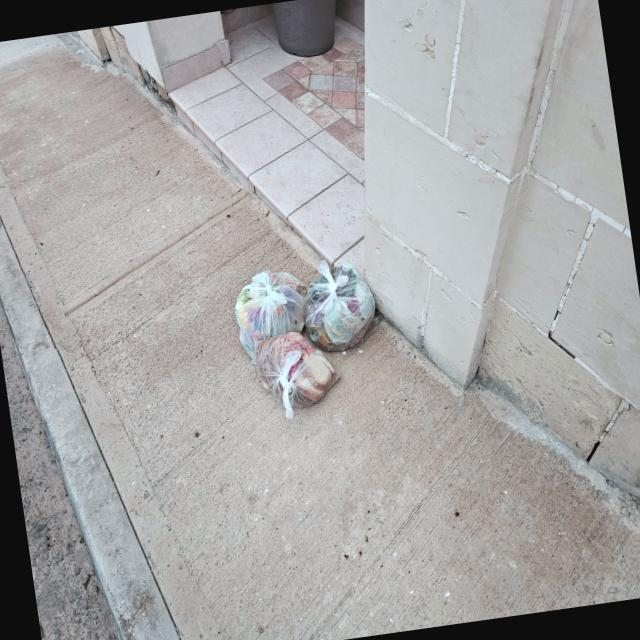white_bag: (250, 324, 347, 422), (296, 255, 384, 358), (228, 264, 316, 366)
